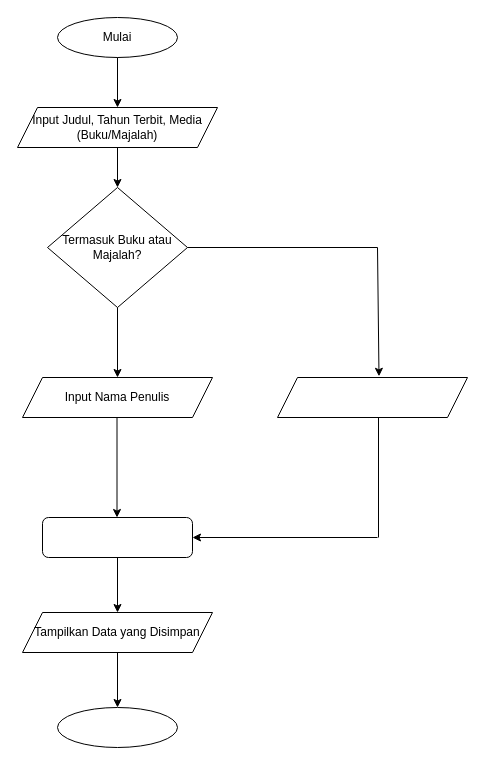
The diagram is 485 pixels wide and 765 high, and some of its shapes have lost their labels. The centre of each missing label's shape, as x and y in pixels:
"Input Edisi Majalah" belongs at point (372, 397).
"Selesai" belongs at point (117, 727).
"Simpan Data ke Struct" belongs at point (117, 537).
